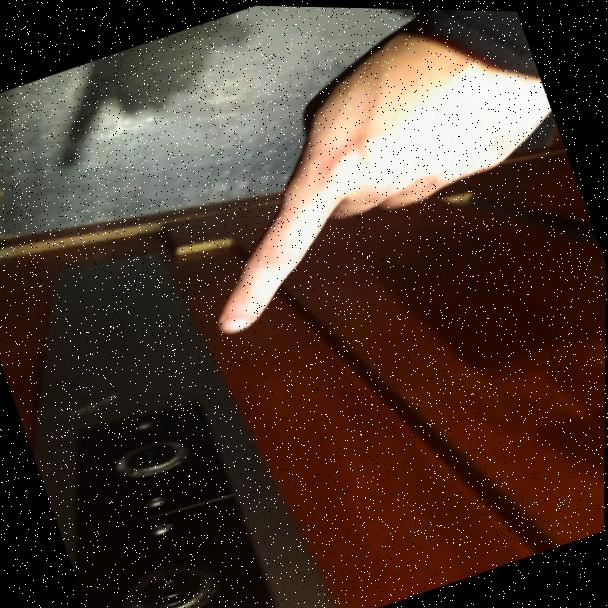one: (135, 2, 567, 351)
